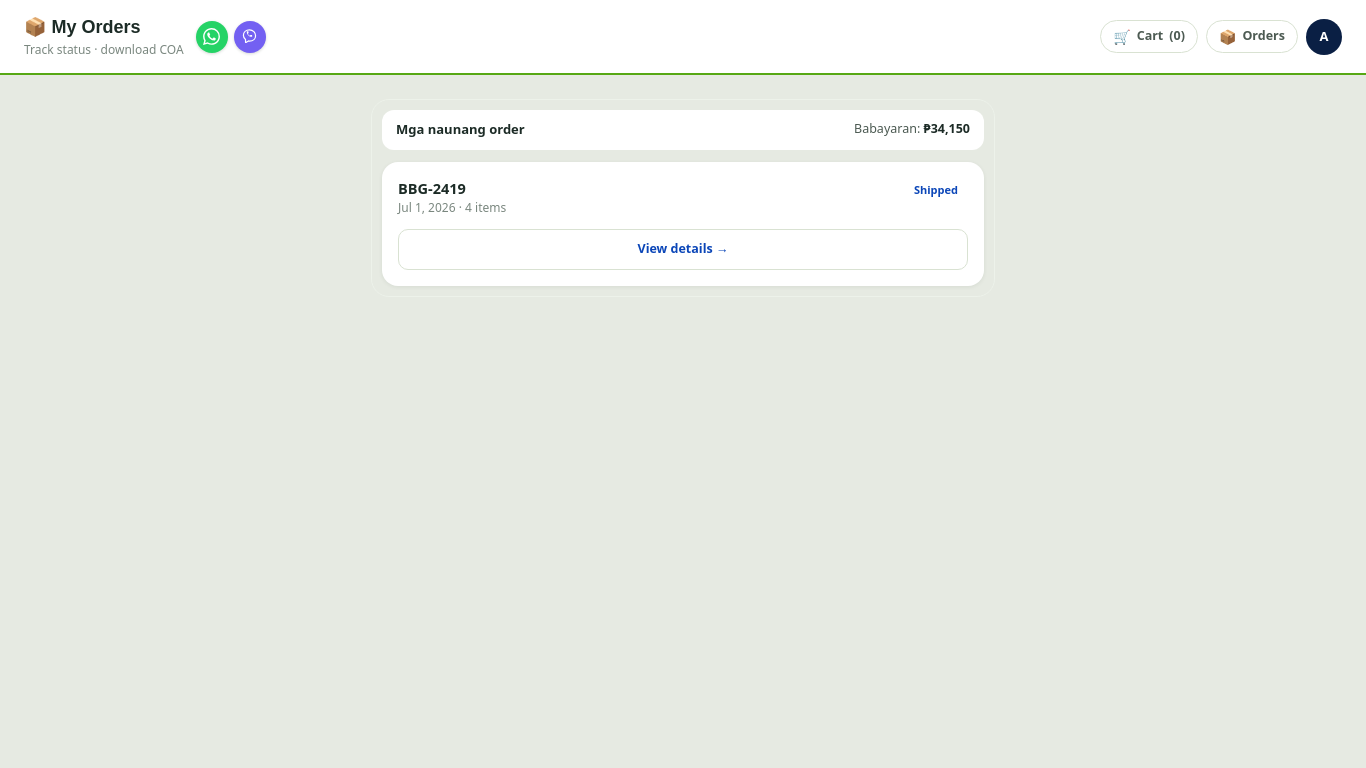
it: an order with no downpayment › still breaks down what was charged
The width and height of the screenshot is (1366, 768).
Click the text "BBG-2419": (432, 188) [398, 178, 466, 198]
(page scrolled)
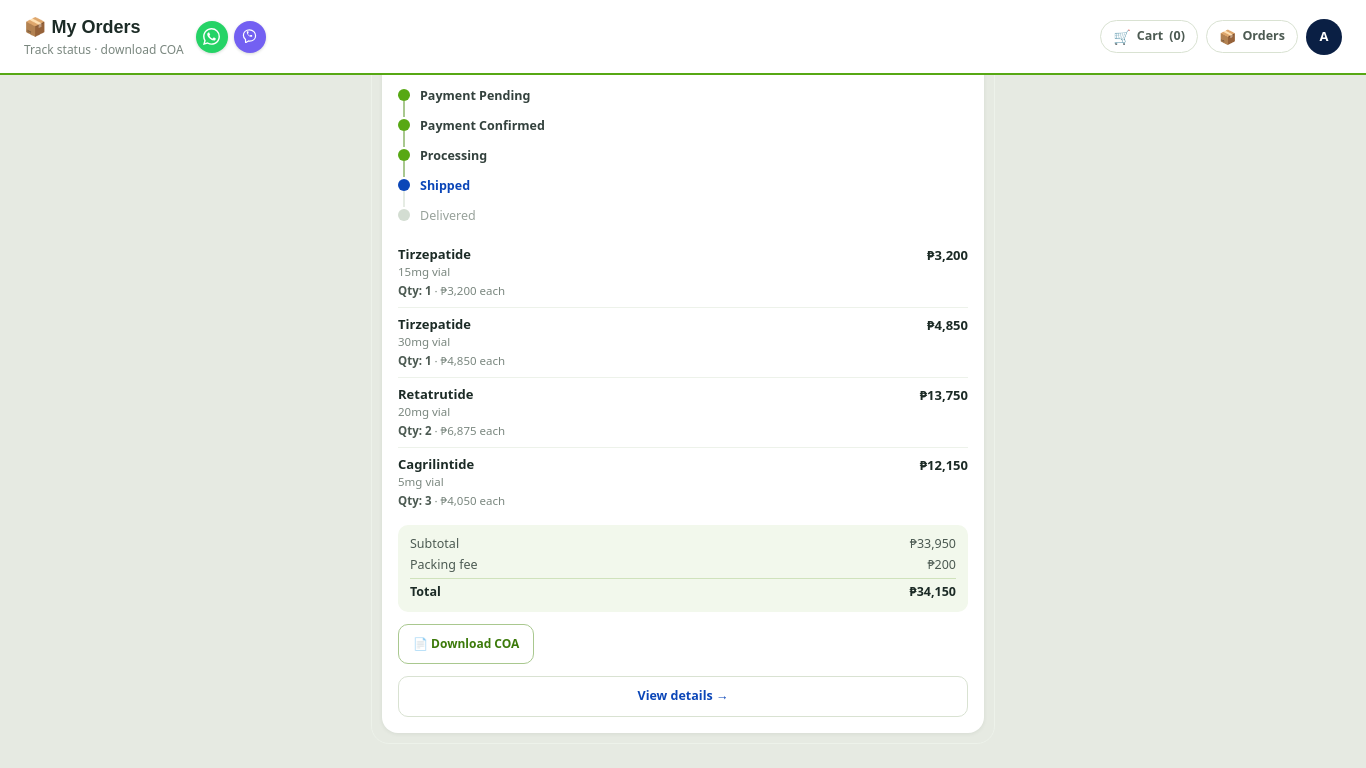
Result: the element with test id "order-summary-BBG-2419" shows "₱33,950" at [910, 535, 956, 552]
Result: the element with test id "order-summary-BBG-2419" shows "₱200" at [927, 556, 956, 572]
Result: the element with test id "order-summary-BBG-2419" shows "₱34,150" at [910, 583, 956, 600]
